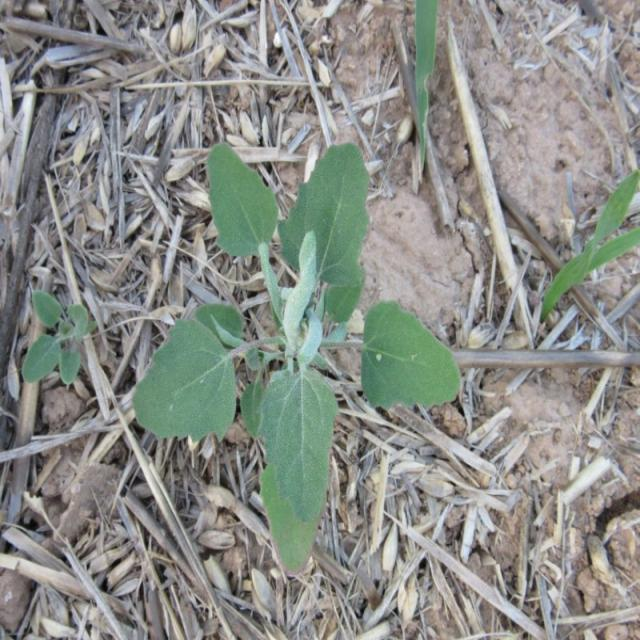ca: (135, 132, 372, 579)
